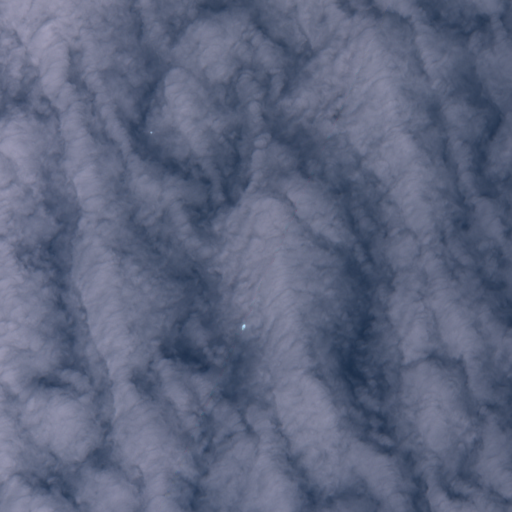Iceberg: (242, 324, 245, 330), (150, 131, 152, 133)
